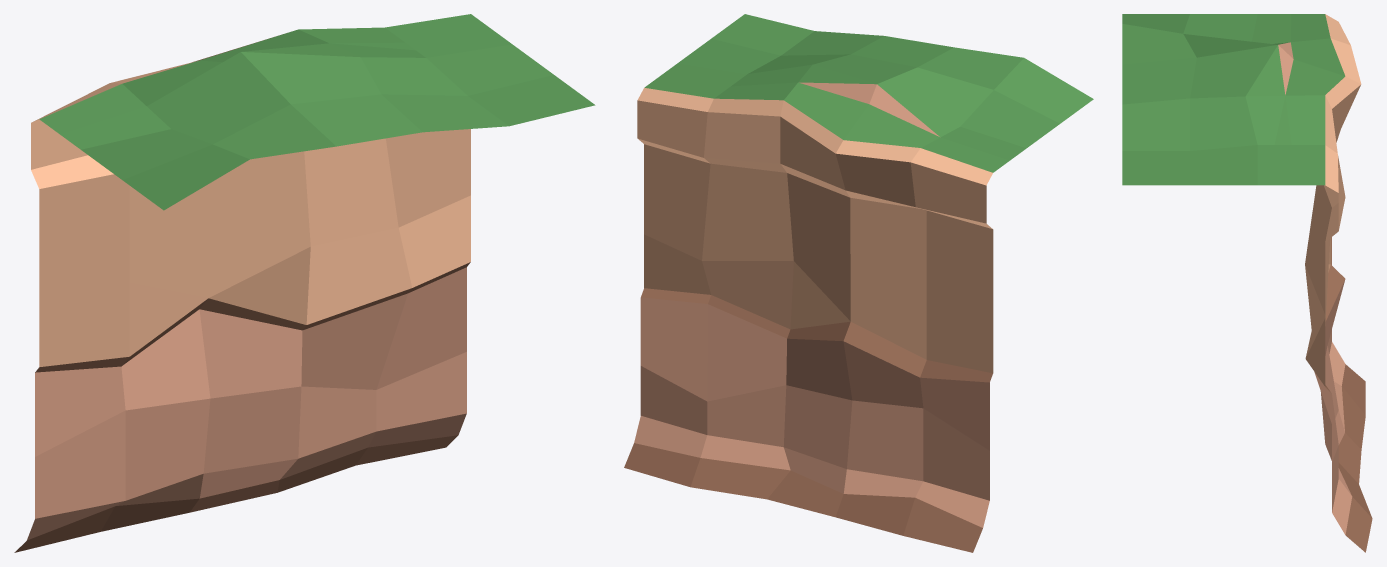
File: CliffFace4.fbx
3 views of the same model, side by side, from view 1: azimuth 30°, elevation 25°; view 2: azimuth 150°, elevation 25°; view 3: azimuth 270°, elevation 25° (orthographic). The views are drawn at different scales.
Visible parts, largest first — view 1: Cliff4; view 2: Cliff4; view 3: Cliff4.
Boxes of the visible parts, bbox=[...] form: Cliff4: bbox=[14, 14, 595, 552]; Cliff4: bbox=[624, 14, 1093, 552]; Cliff4: bbox=[1122, 14, 1372, 552].
Bounding box in the file's own units: 19980 × 22034 × 12321.
